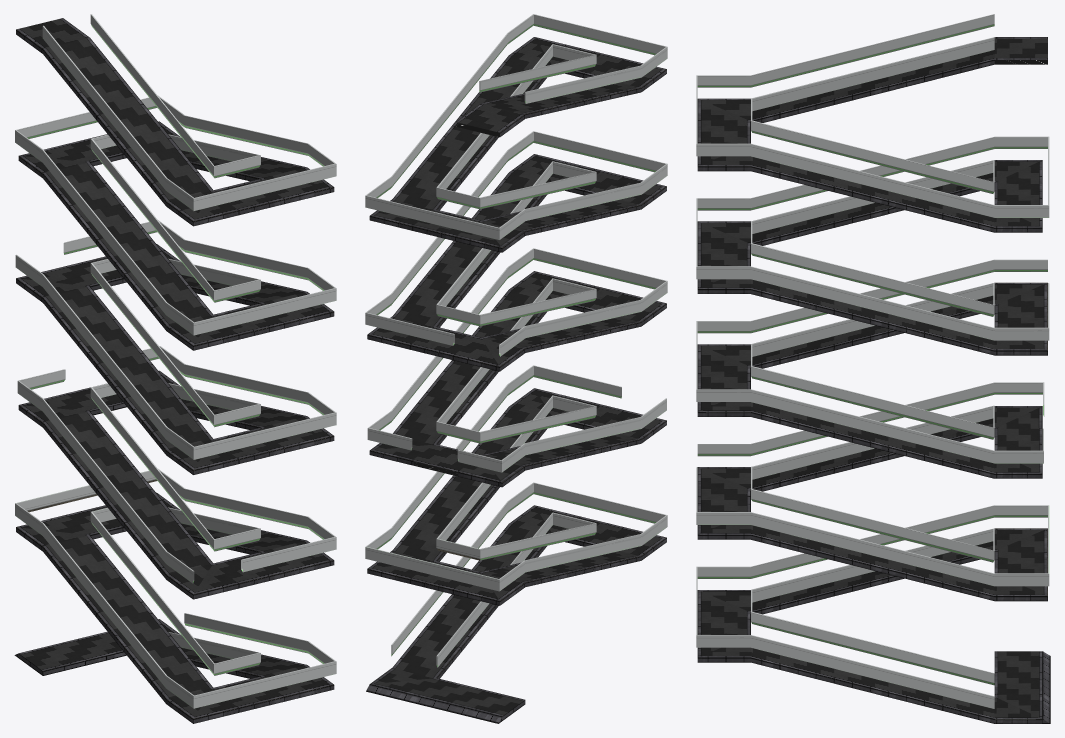
File: Exhibit_Str_Stairs_1_Art.fbx
3 views of the same model, side by side, from view 1: azimuth 30°, elevation 25°; view 2: azimuth 150°, elevation 25°; view 3: azimuth 270°, elevation 25° (orthographic). The views are drawn at different scales.
Parts seen in each view (by area): view 1: Exhibit_Str_Stairs_1, Exhibit_Str_Stairs_1_Railing; view 2: Exhibit_Str_Stairs_1, Exhibit_Str_Stairs_1_Railing; view 3: Exhibit_Str_Stairs_1_Railing, Exhibit_Str_Stairs_1.
Boxes of the visible parts, x1,y1,x2,y2 form: Exhibit_Str_Stairs_1: [14, 18, 334, 723]; Exhibit_Str_Stairs_1_Railing: [15, 14, 336, 708]; Exhibit_Str_Stairs_1: [366, 37, 666, 723]; Exhibit_Str_Stairs_1_Railing: [365, 14, 667, 667]; Exhibit_Str_Stairs_1_Railing: [696, 14, 1049, 708]; Exhibit_Str_Stairs_1: [697, 37, 1050, 723].
Size of what is drawn, in the model's own units: 610 by 2656 by 1329.
Materials: 2 (2 with a texture image).
